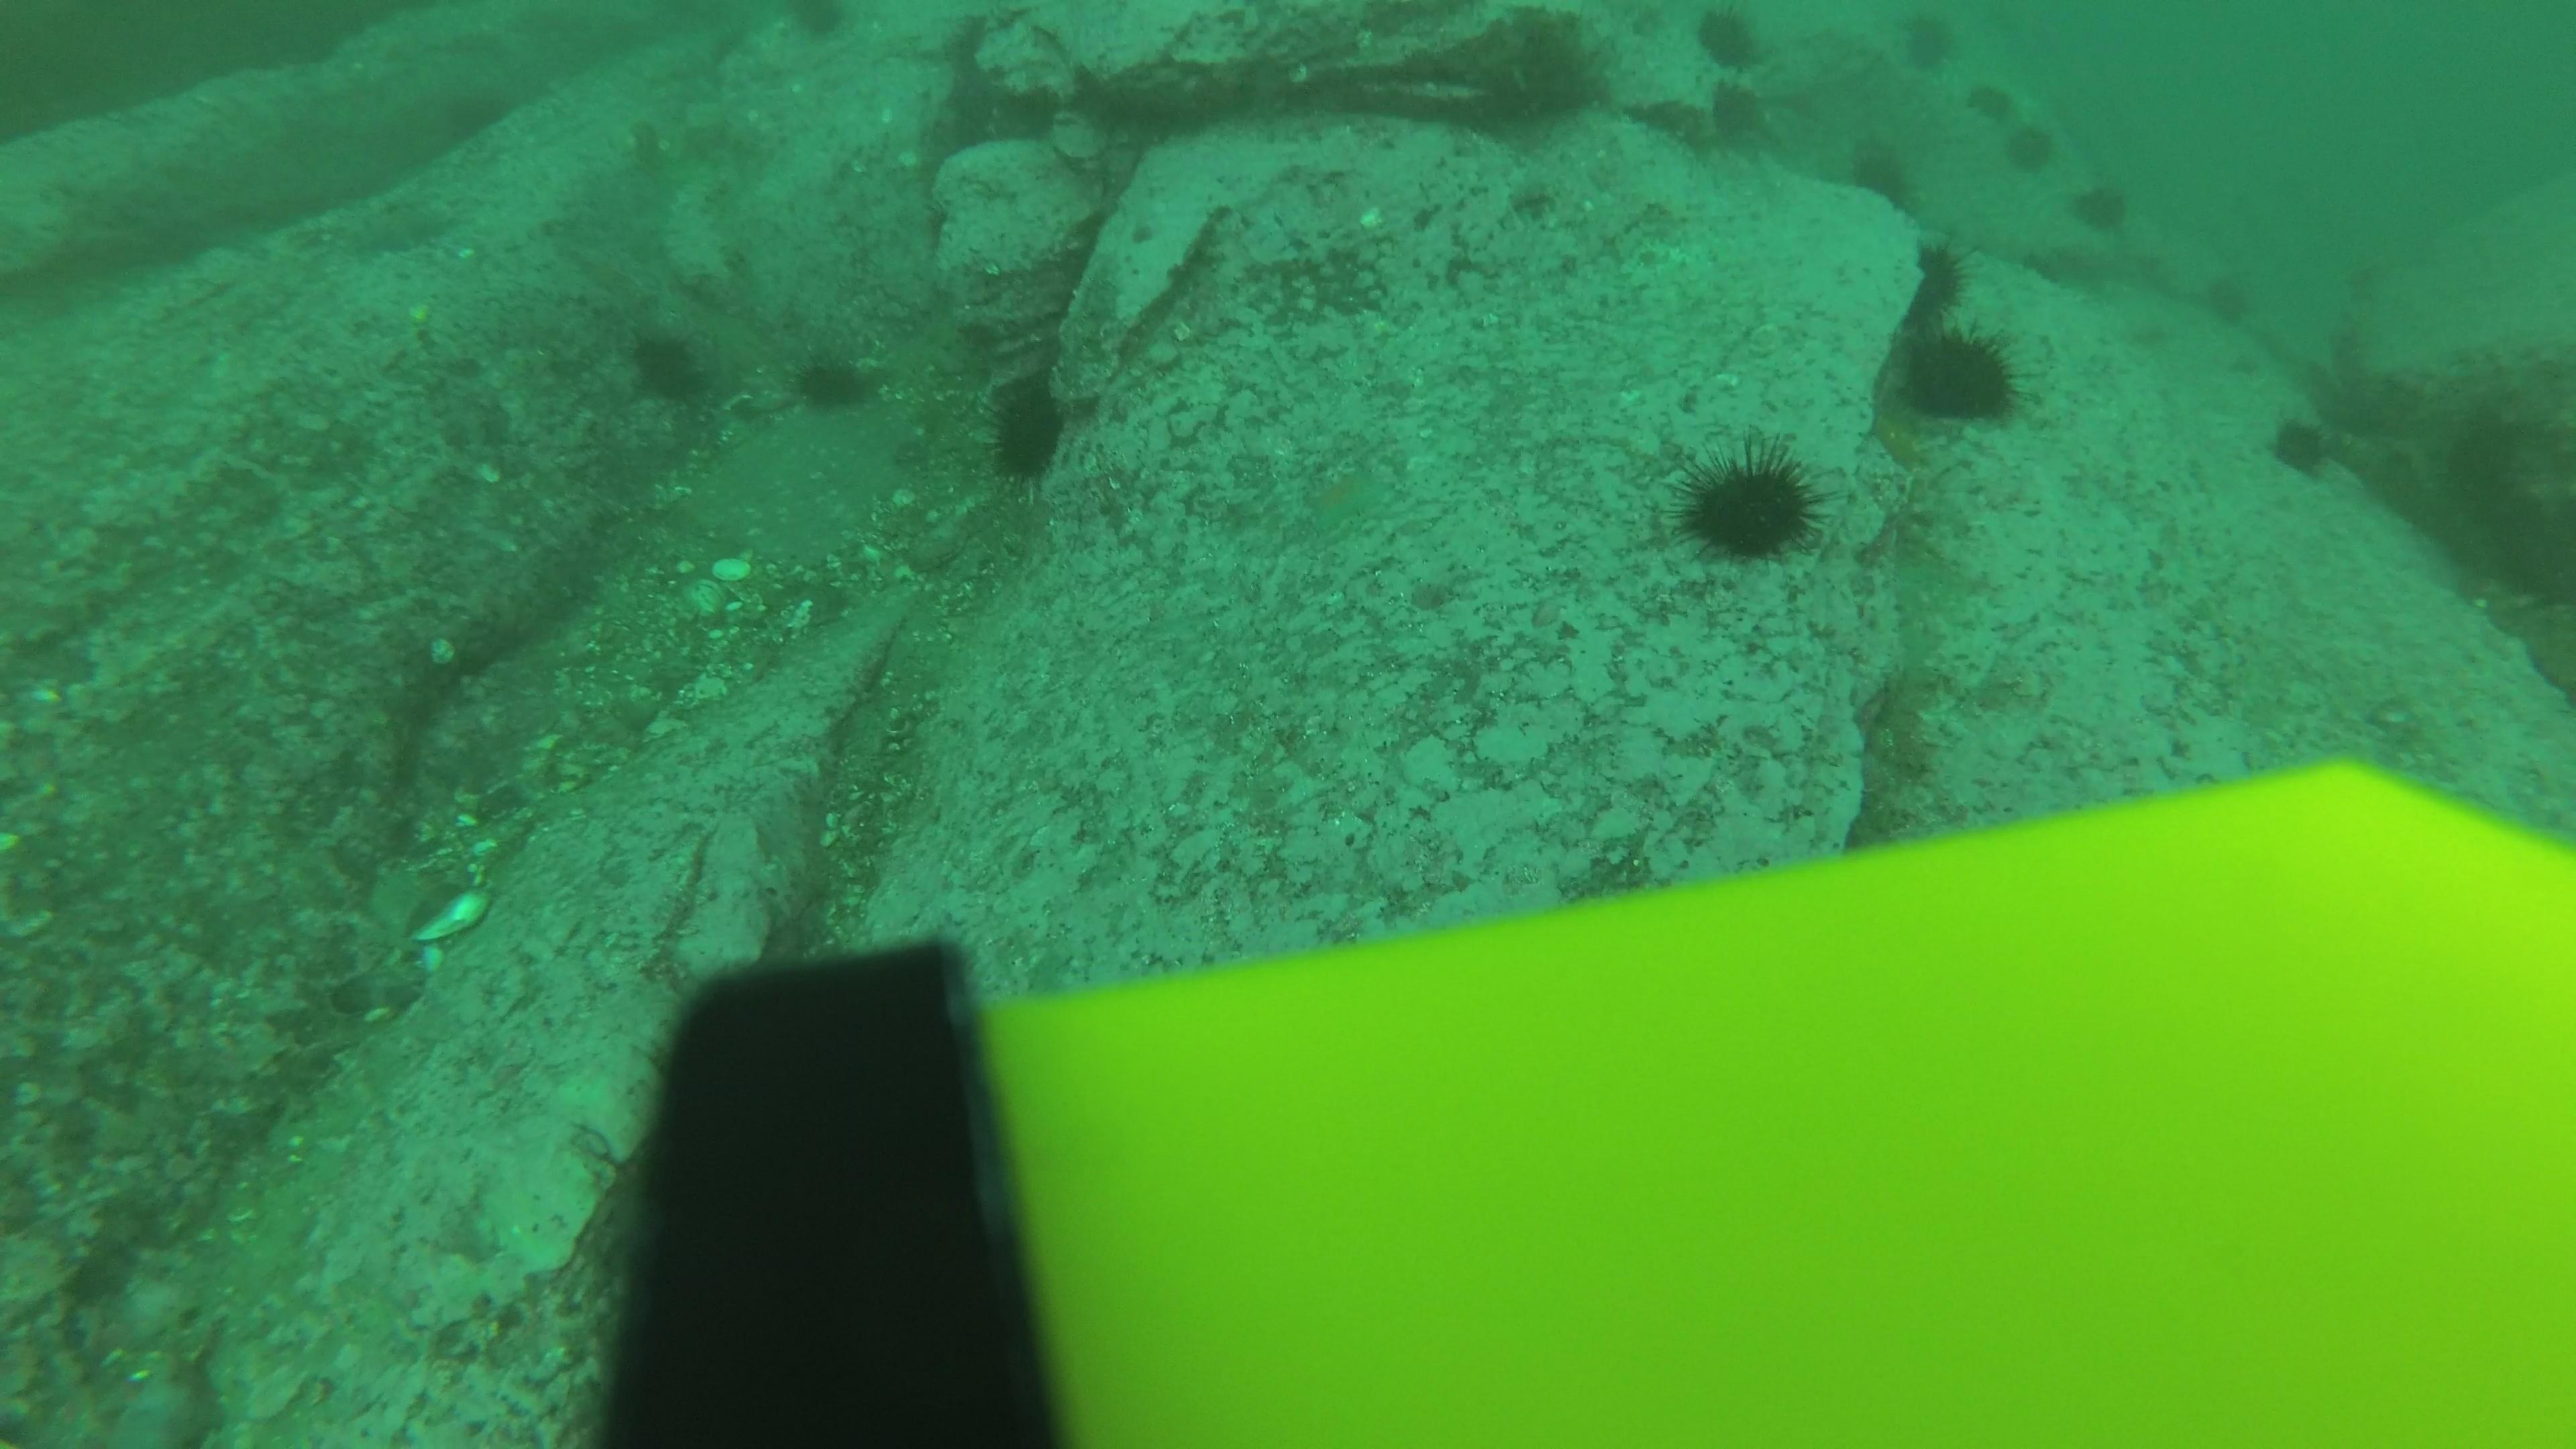echinus: (1674, 439, 1824, 566), (1460, 12, 1610, 136), (1891, 320, 2026, 428), (982, 373, 1074, 485), (623, 322, 713, 405), (1897, 235, 1973, 333), (1684, 76, 1771, 152), (789, 343, 878, 416), (1845, 136, 1920, 212), (1691, 4, 1767, 74), (2265, 409, 2339, 479), (1895, 9, 1960, 74), (2068, 175, 2132, 235), (780, 0, 855, 46), (2003, 119, 2058, 177), (1957, 74, 2012, 131)
holothurian: (1851, 663, 1955, 840)
starfish: (333, 193, 462, 260), (1297, 456, 1394, 536), (1863, 395, 1934, 472)
